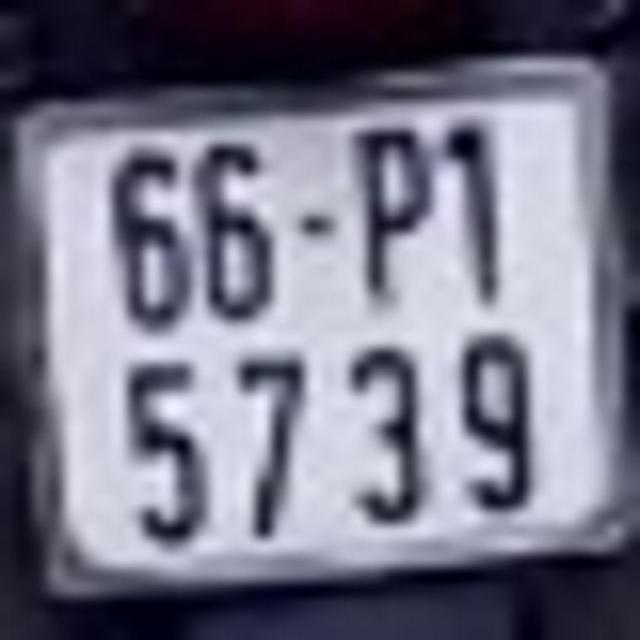1: (444, 116, 498, 312)
3: (348, 337, 423, 530)
5: (123, 358, 209, 540)
6: (112, 147, 187, 335), (197, 134, 271, 316)
7: (240, 351, 302, 538)
9: (464, 342, 526, 509)
P: (357, 127, 430, 300)
